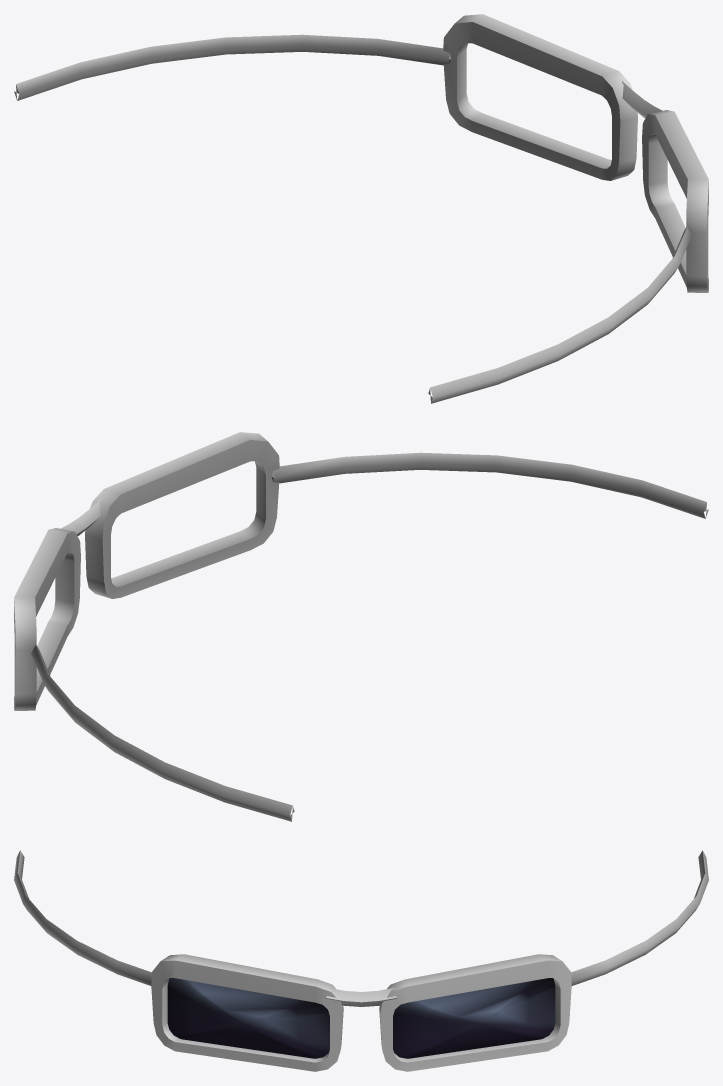
File: acc_shades.glb
3 renders of one model, top to bottom at view 1: azimuth 30°, elevation 25°; view 2: azimuth 150°, elevation 25°; view 3: azimuth 270°, elevation 25°, orthographic. The views are drawn at different scales.
Visible parts, largest first — view 1: acc_shades; view 2: acc_shades; view 3: acc_shades.
Part boxes in pixels (left/top/right/bottom): acc_shades: left=14, top=14, right=708, bottom=403; acc_shades: left=14, top=432, right=708, bottom=821; acc_shades: left=14, top=850, right=708, bottom=1071.
Bounding box in the file's own units: 0.3052 × 0.0752 × 0.5211.
